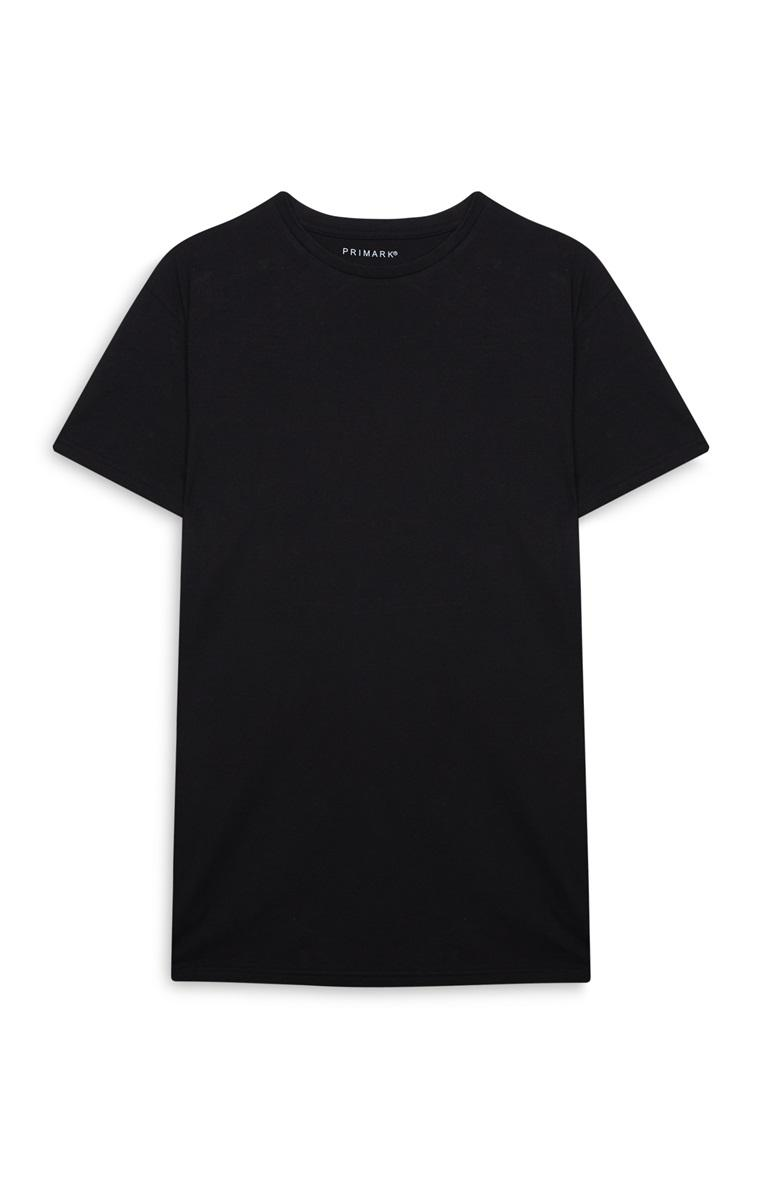teeshirt: (48, 168, 720, 1027)
